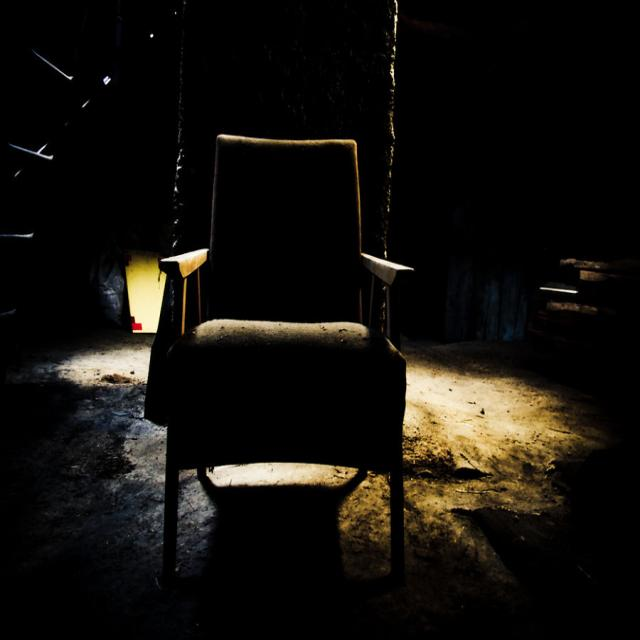chair: (139, 121, 440, 593)
